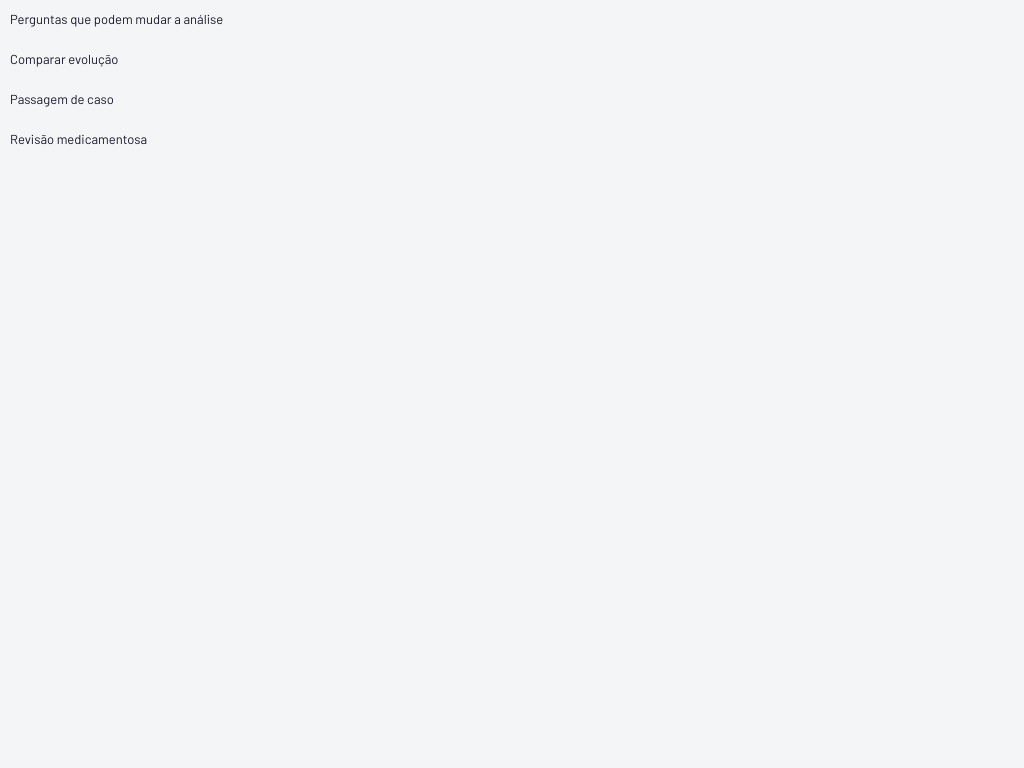
Test: ClinicalToolsPanel › coleta fatores antes de solicitar revisão medicamentosa
This screenshot has width=1024, height=768.
Click the button "Revisão medicamentosa": [79, 139] box 0,120 -> 1023,158
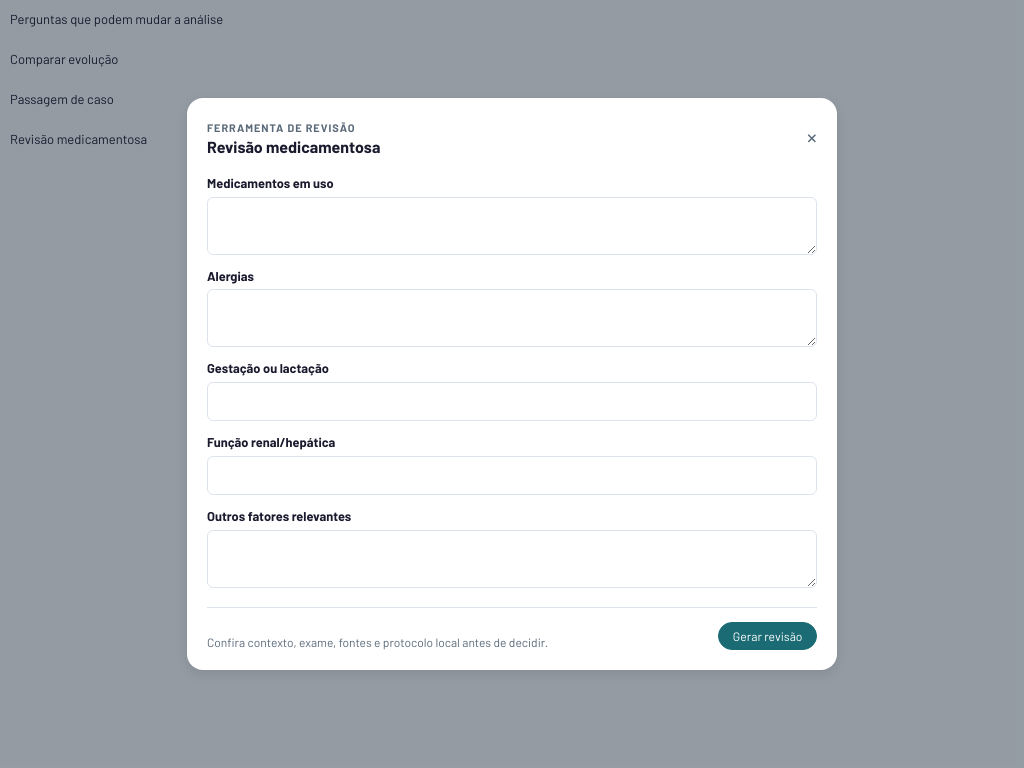
In the text box labelled "Medicamentos em uso": [512, 226] box 207,197 -> 817,255, type "metformina"
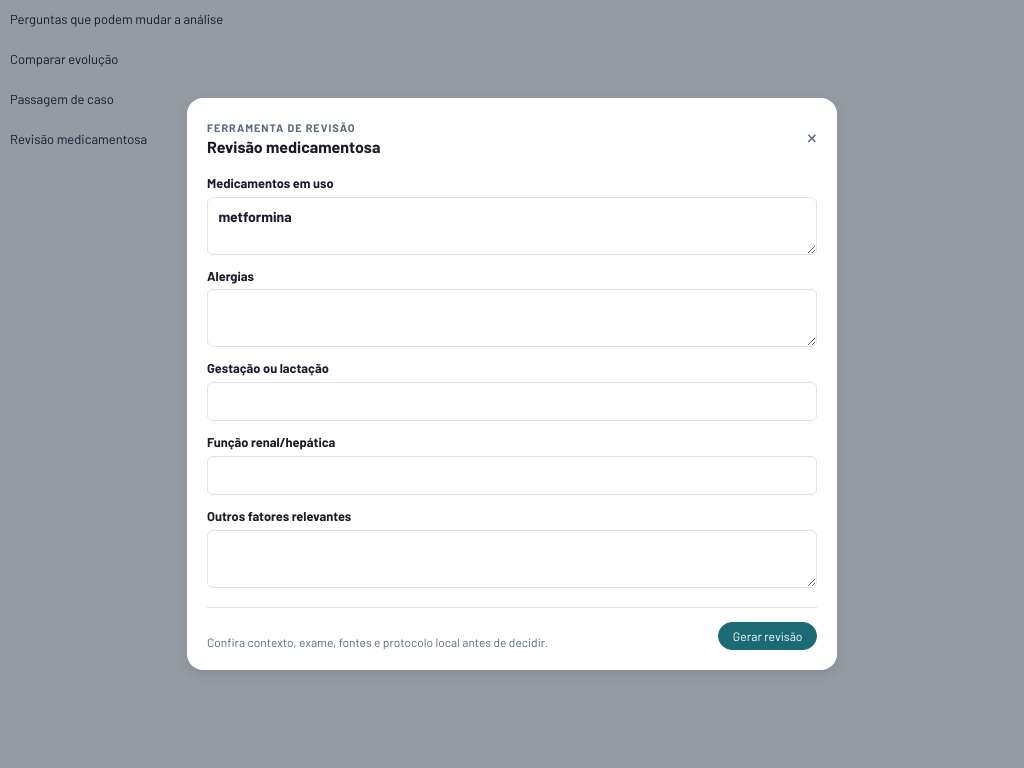
In the text box labelled "Alergias": [512, 318] box 207,289 -> 817,347, type "penicilina"
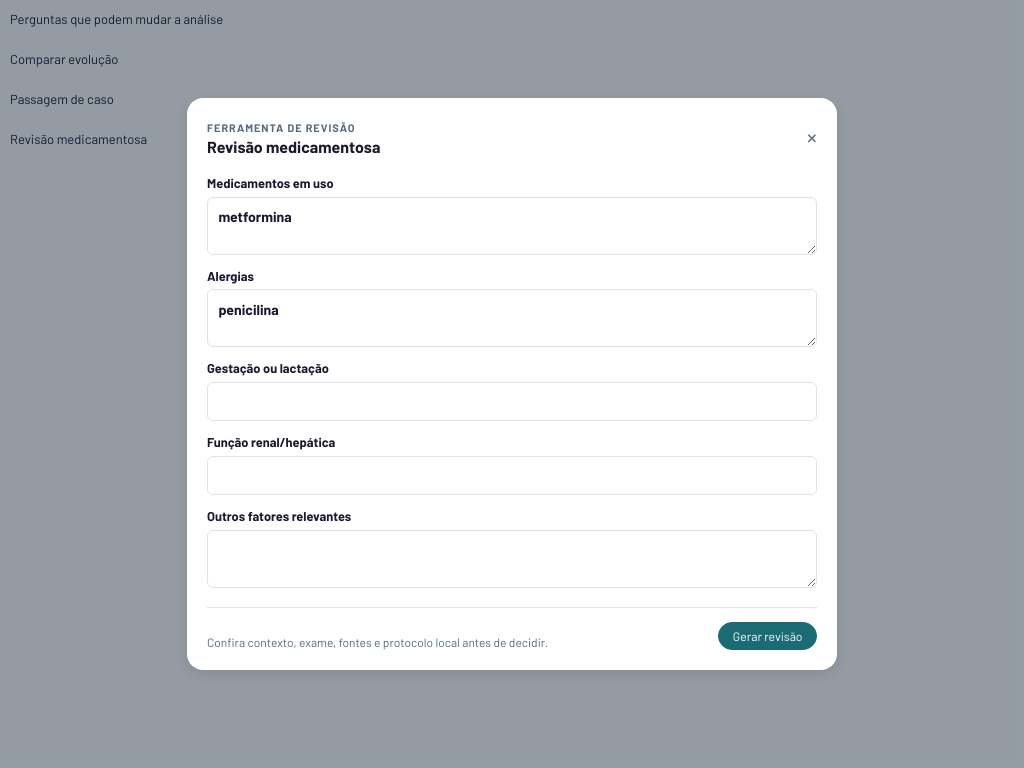
Click the button "Gerar revisão": [768, 636] box 718,622 -> 817,650
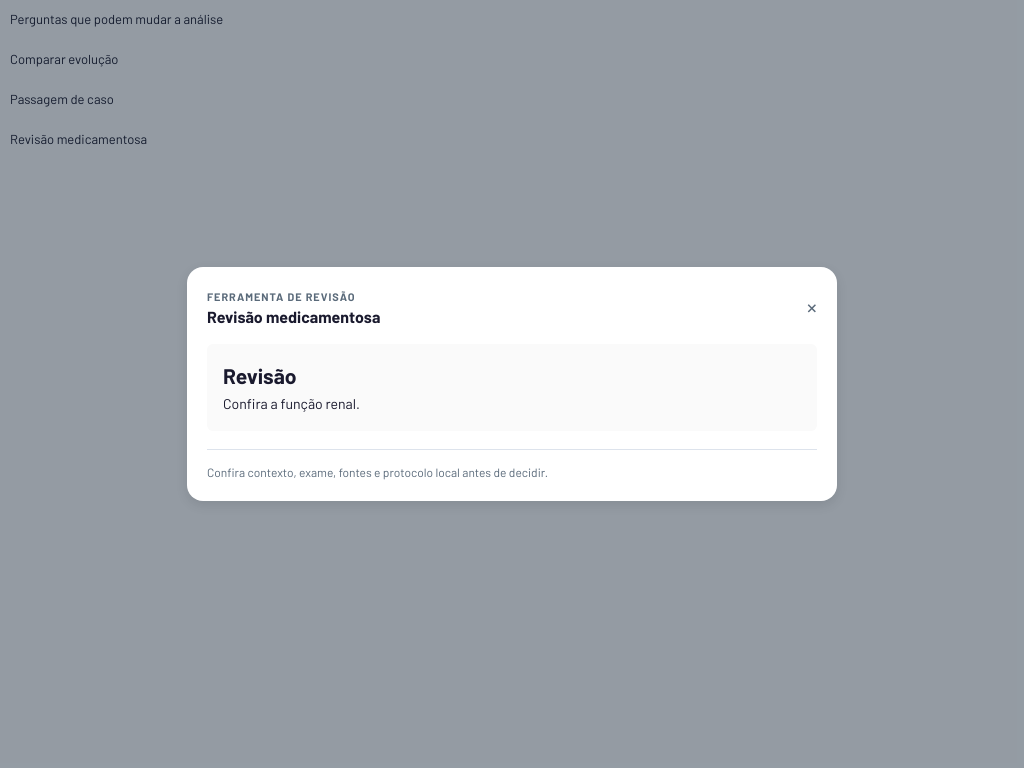
Expected: the text "Confira a função renal." is shown, 223,395 -> 360,412
